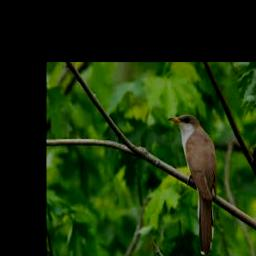Cuckoo: (168, 114, 217, 256)
